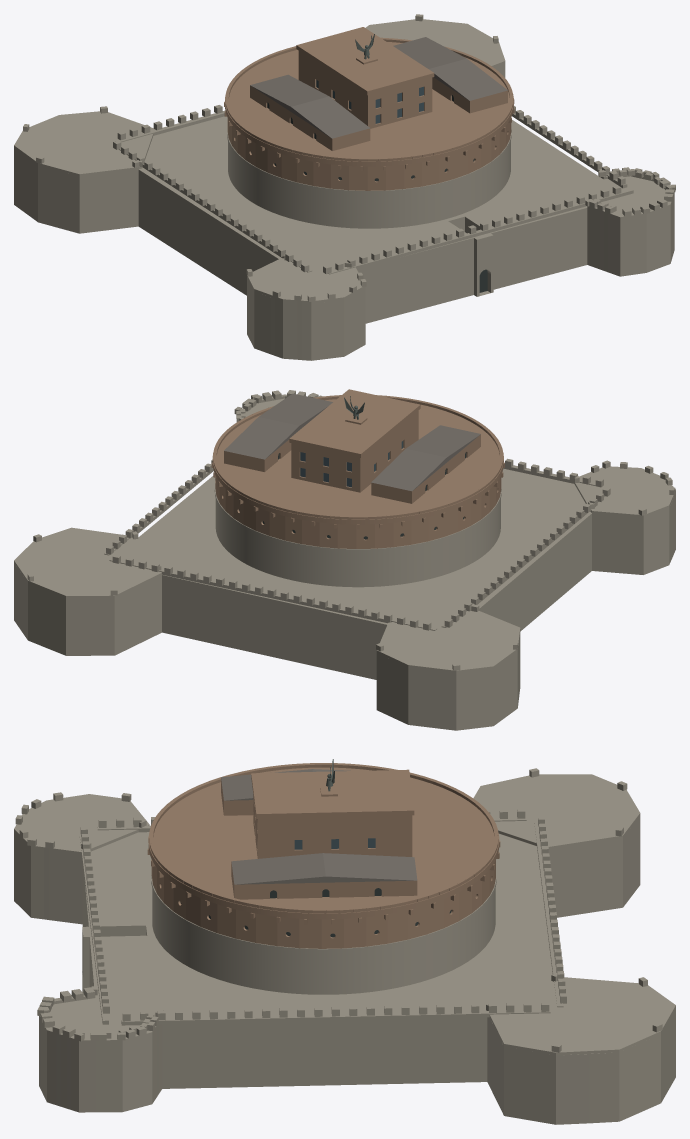
The model's file is castel-sant-angelo-near.glb.
3 renders of one model, top to bottom at view 1: azimuth 30°, elevation 25°; view 2: azimuth 150°, elevation 25°; view 3: azimuth 270°, elevation 25°, orthographic. The views are drawn at different scales.
Visible parts, largest first — view 1: castel-sant-angelo-0-stone, castel-sant-angelo-0-brick, castel-sant-angelo-0-roof; view 2: castel-sant-angelo-0-stone, castel-sant-angelo-0-brick, castel-sant-angelo-0-roof; view 3: castel-sant-angelo-0-stone, castel-sant-angelo-0-brick, castel-sant-angelo-0-roof.
Boxes of the visible parts, bbox=[...] form: castel-sant-angelo-0-stone: bbox=[14, 14, 675, 360]; castel-sant-angelo-0-brick: bbox=[224, 27, 514, 190]; castel-sant-angelo-0-roof: bbox=[250, 37, 507, 138]; castel-sant-angelo-0-stone: bbox=[14, 390, 675, 730]; castel-sant-angelo-0-brick: bbox=[211, 389, 504, 548]; castel-sant-angelo-0-roof: bbox=[224, 393, 480, 491]; castel-sant-angelo-0-stone: bbox=[14, 768, 675, 1124]; castel-sant-angelo-0-brick: bbox=[147, 763, 500, 948]; castel-sant-angelo-0-roof: bbox=[221, 769, 417, 884].
Bounding box in the file's own units: 126 × 48 × 126.
